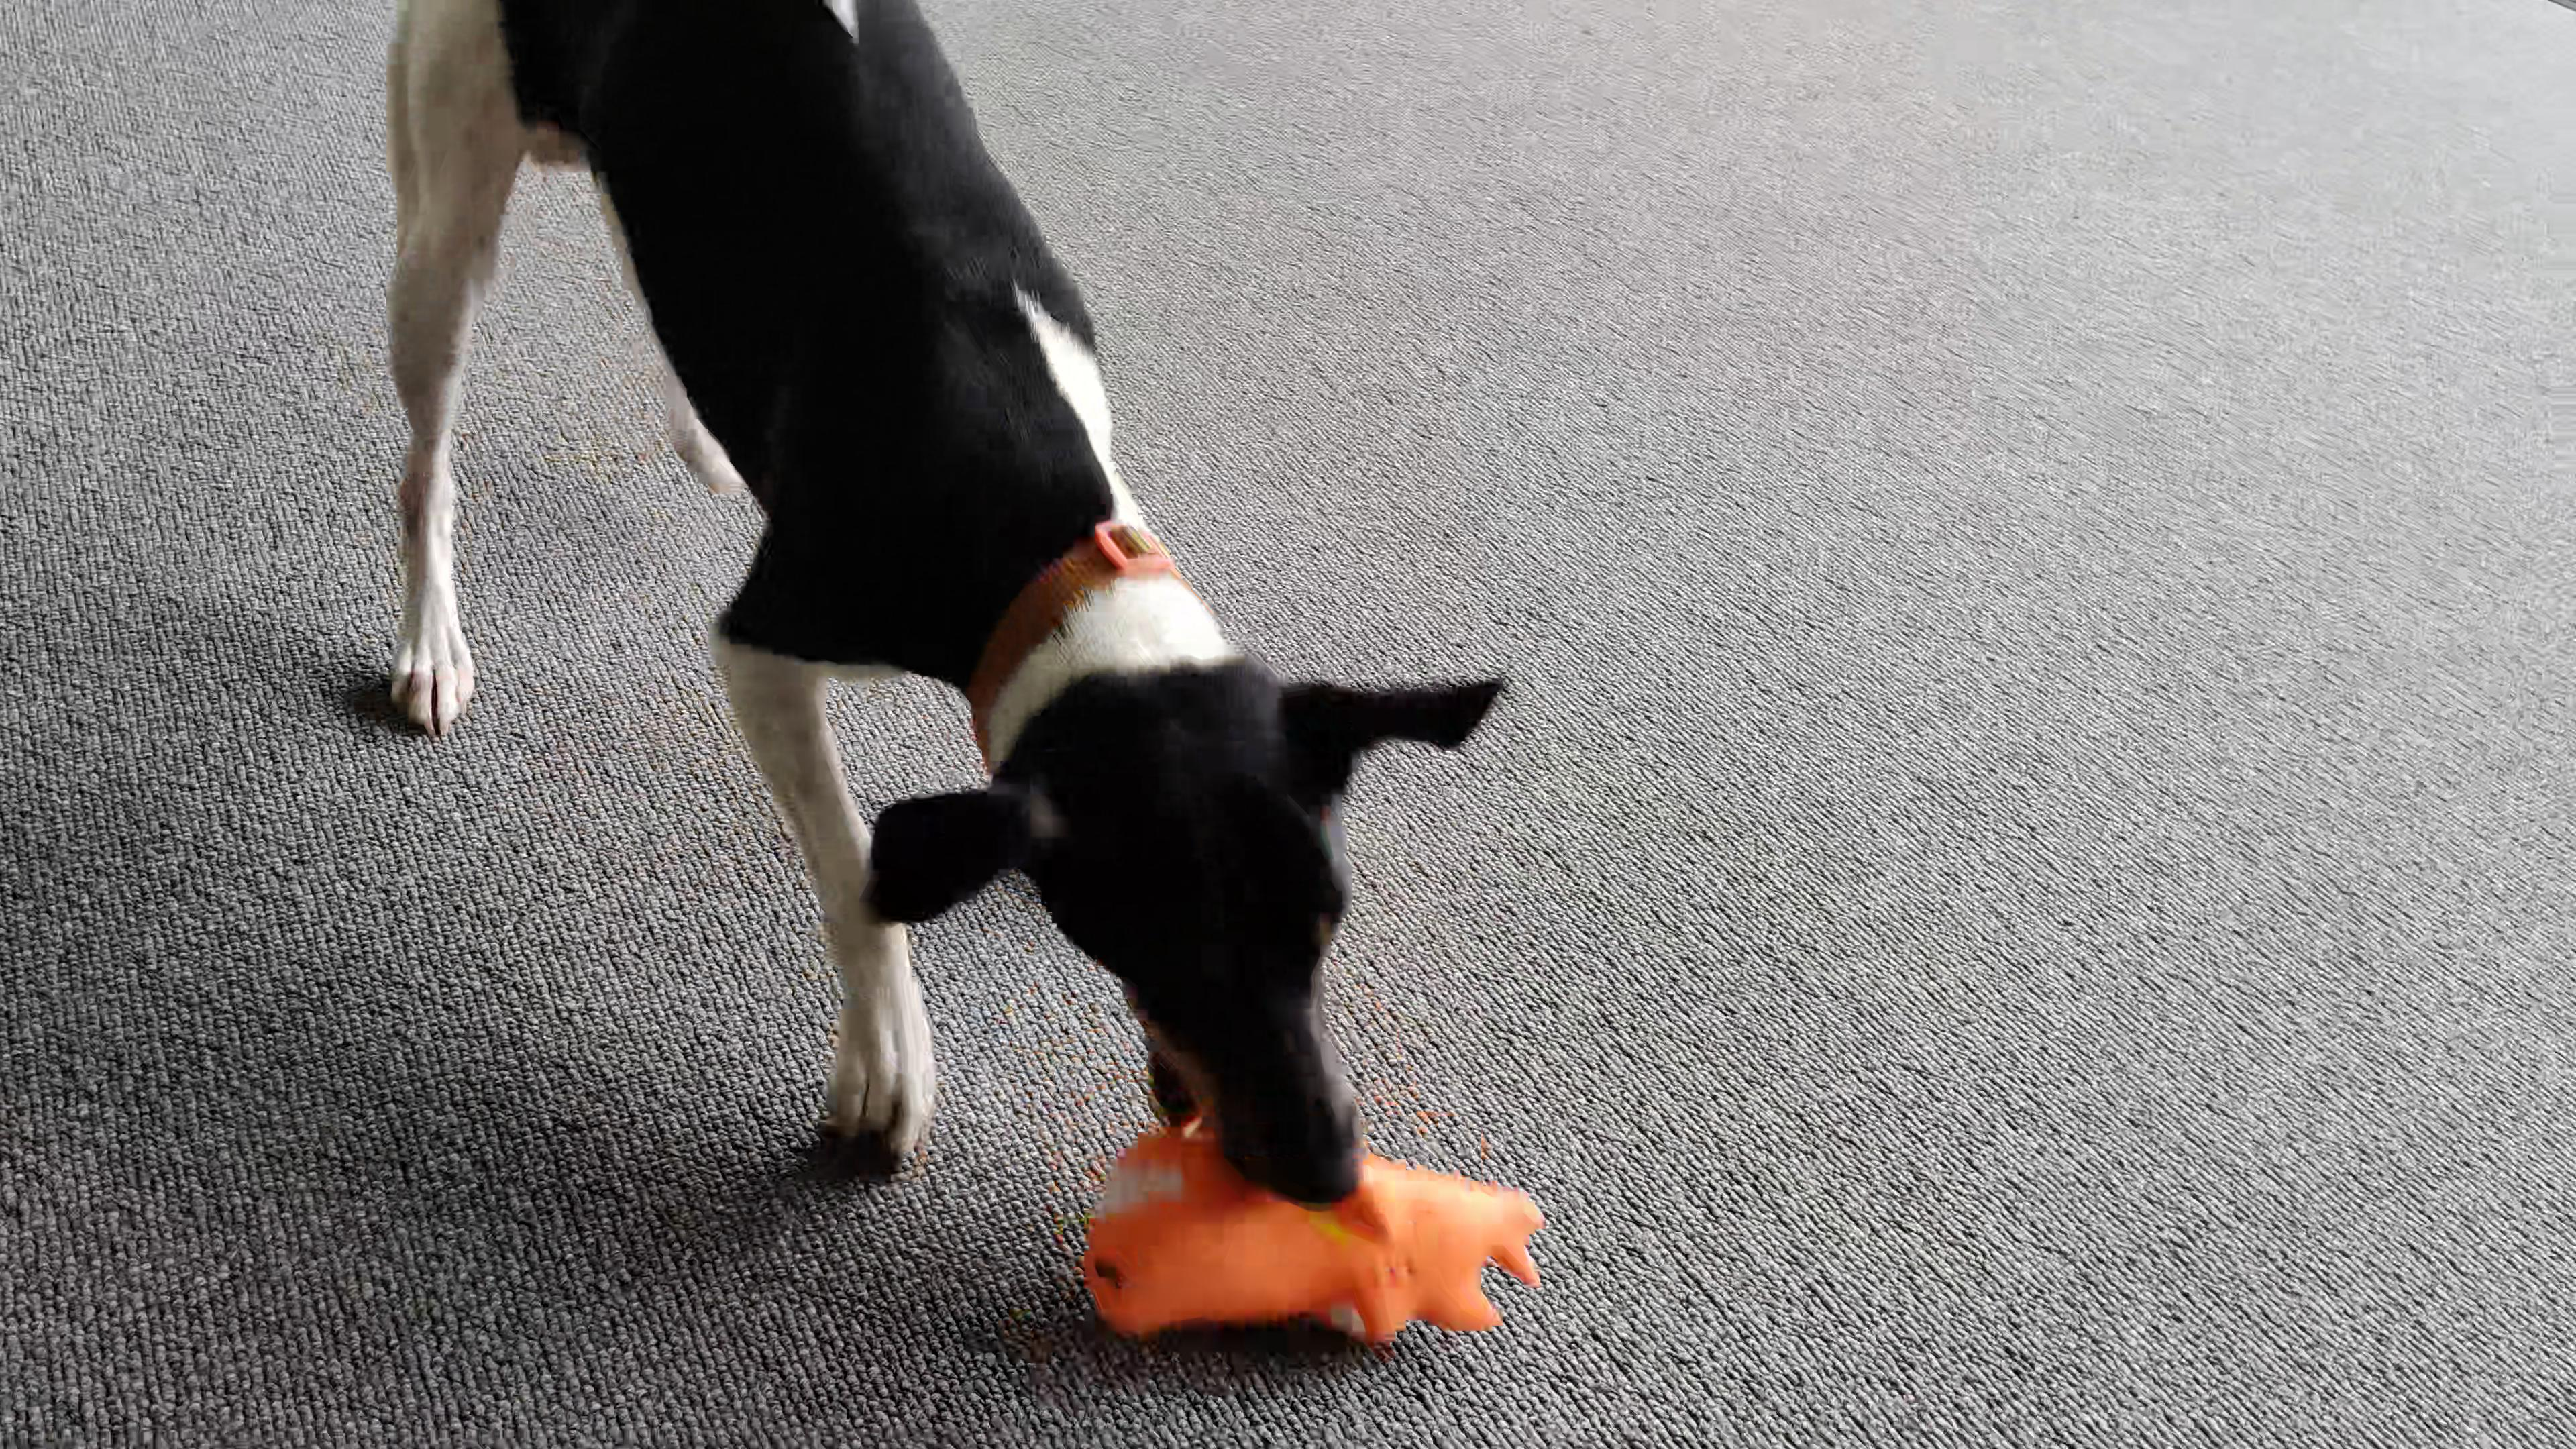Dog: (357, 0, 1514, 1219)
